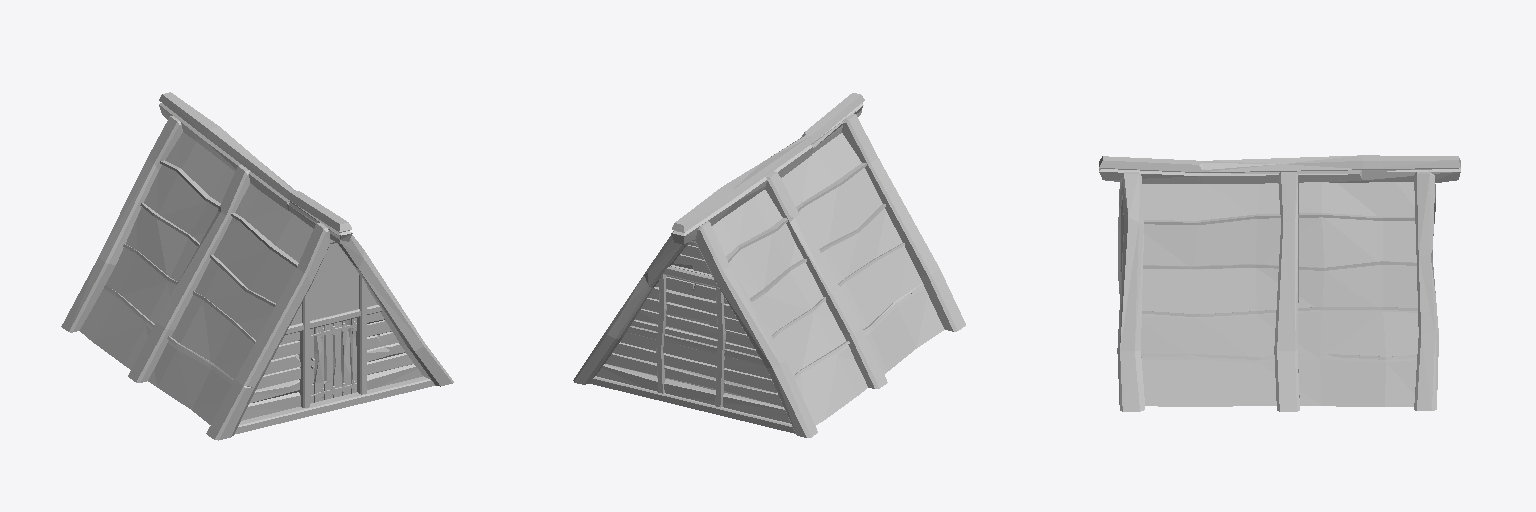
Rendered from Building_2_Wall_Off_1.obj.
3 renders of one model, left to right at view 1: azimuth 30°, elevation 25°; view 2: azimuth 150°, elevation 25°; view 3: azimuth 270°, elevation 25°, orthographic.
Parts seen in each view (by area): view 1: Building_2_Wall_Off_1; view 2: Building_2_Wall_Off_1; view 3: Building_2_Wall_Off_1.
Part boxes in pixels (bbox=[...]): Building_2_Wall_Off_1: bbox=[61, 92, 453, 440]; Building_2_Wall_Off_1: bbox=[573, 93, 965, 437]; Building_2_Wall_Off_1: bbox=[1099, 155, 1460, 411].
Size of the model in its own units: 6.63 by 5.16 by 8.66.